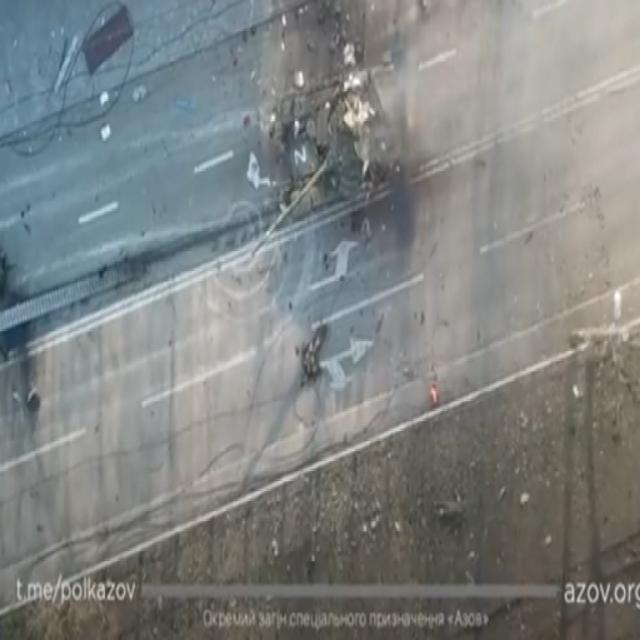TANK: (245, 58, 421, 269)
